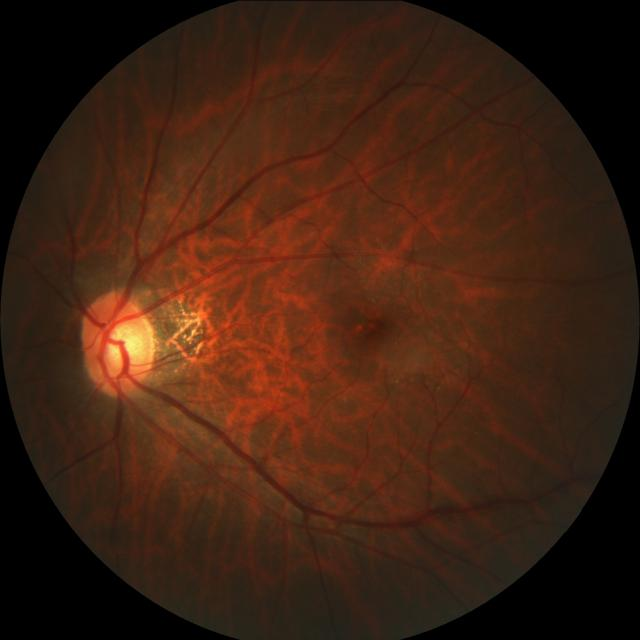OC: (98, 320, 144, 370)
OD: (79, 290, 154, 395)
